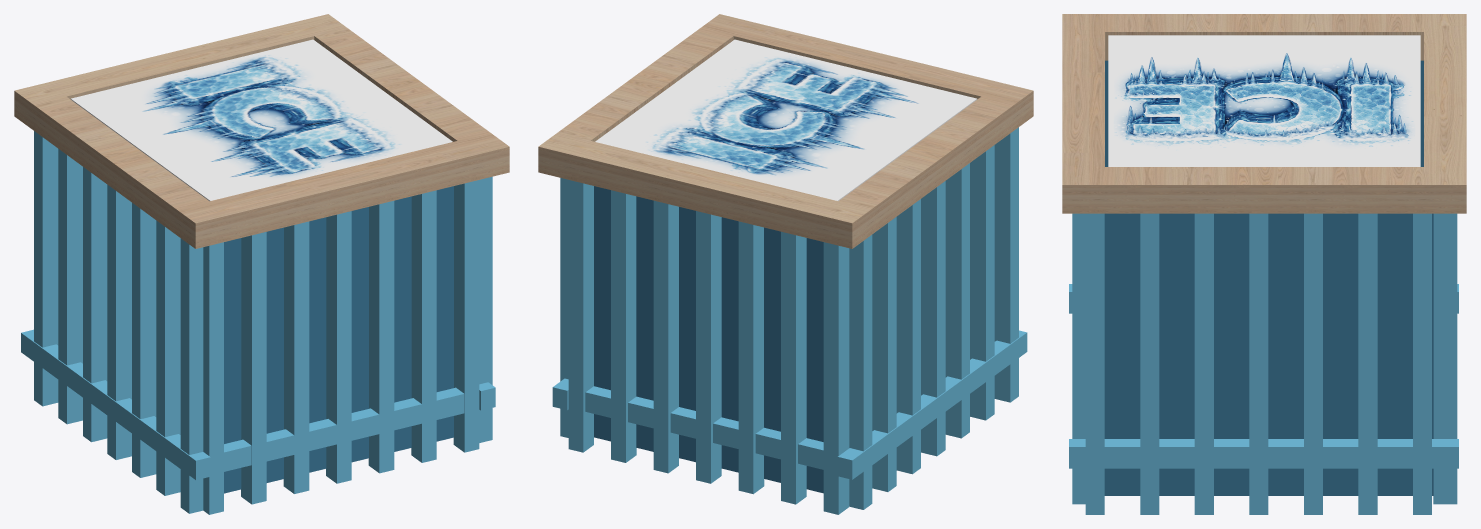
File: Ice_counter.fbx
3 views of the same model, side by side, from view 1: azimuth 30°, elevation 25°; view 2: azimuth 150°, elevation 25°; view 3: azimuth 270°, elevation 25° (orthographic). The views are drawn at different scales.
Visible parts, largest first — view 1: Cube.002, Cube.001, Plane, Cube; view 2: Cube.002, Cube.001, Plane, Cube; view 3: Cube.002, Cube, Plane, Cube.001.
Part boxes in pixels (<box>): Cube.002: <box>21,131,495,514</box>; Cube.001: <box>14,14,509,248</box>; Plane: <box>70,39,452,201</box>; Cube: <box>224,186,453,493</box>; Cube.002: <box>552,127,1027,514</box>; Cube.001: <box>538,14,1033,248</box>; Plane: <box>595,39,977,201</box>; Cube: <box>594,186,823,493</box>; Cube.002: <box>1069,213,1458,514</box>; Cube: <box>1104,60,1433,495</box>; Plane: <box>1108,35,1420,166</box>; Cube.001: <box>1062,14,1466,213</box>.
Bounding box in the file's own units: 239 × 218 × 239.
